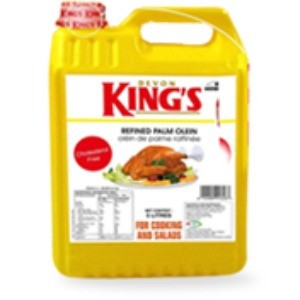vegetable oil_brain food: (54, 66, 238, 271)
